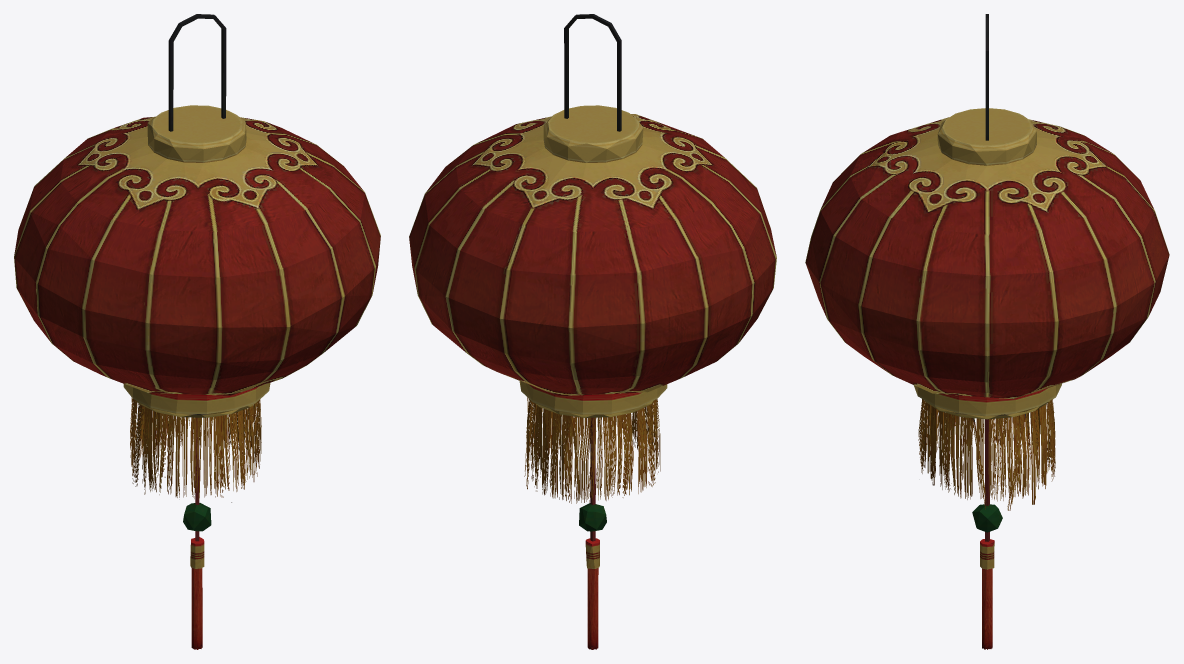
Rendered from M_cp_gn_denglong_04.fbx.
3 views of the same model, side by side, from view 1: azimuth 30°, elevation 25°; view 2: azimuth 150°, elevation 25°; view 3: azimuth 270°, elevation 25° (orthographic).
Parts seen in each view (by area): view 1: M_cp_gn_denglong_04.mo; view 2: M_cp_gn_denglong_04.mo; view 3: M_cp_gn_denglong_04.mo.
Part boxes in pixels (box(x1,y1,x2,y2)): M_cp_gn_denglong_04.mo: box(14, 14, 380, 649); M_cp_gn_denglong_04.mo: box(409, 14, 776, 649); M_cp_gn_denglong_04.mo: box(805, 14, 1169, 649).
Size of the model in its own units: 91.22 by 172 by 90.01.
